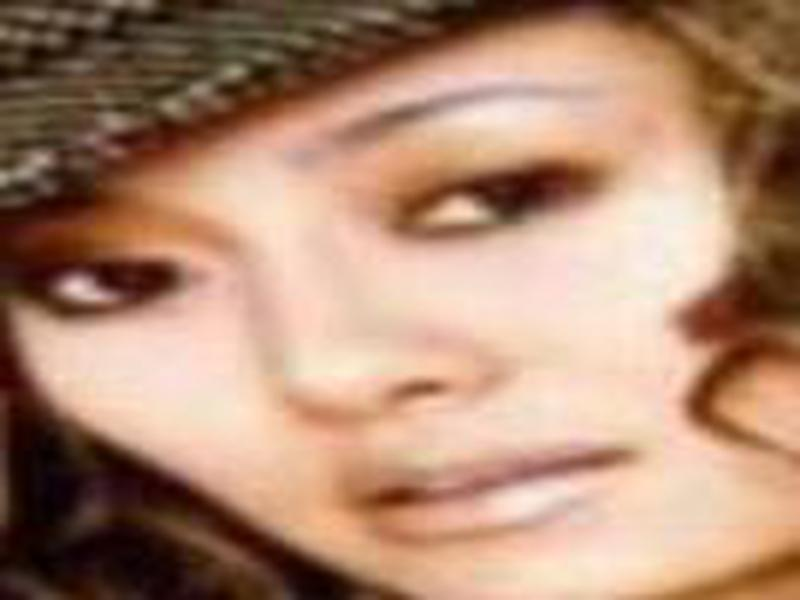without_mask: (4, 21, 783, 599)
